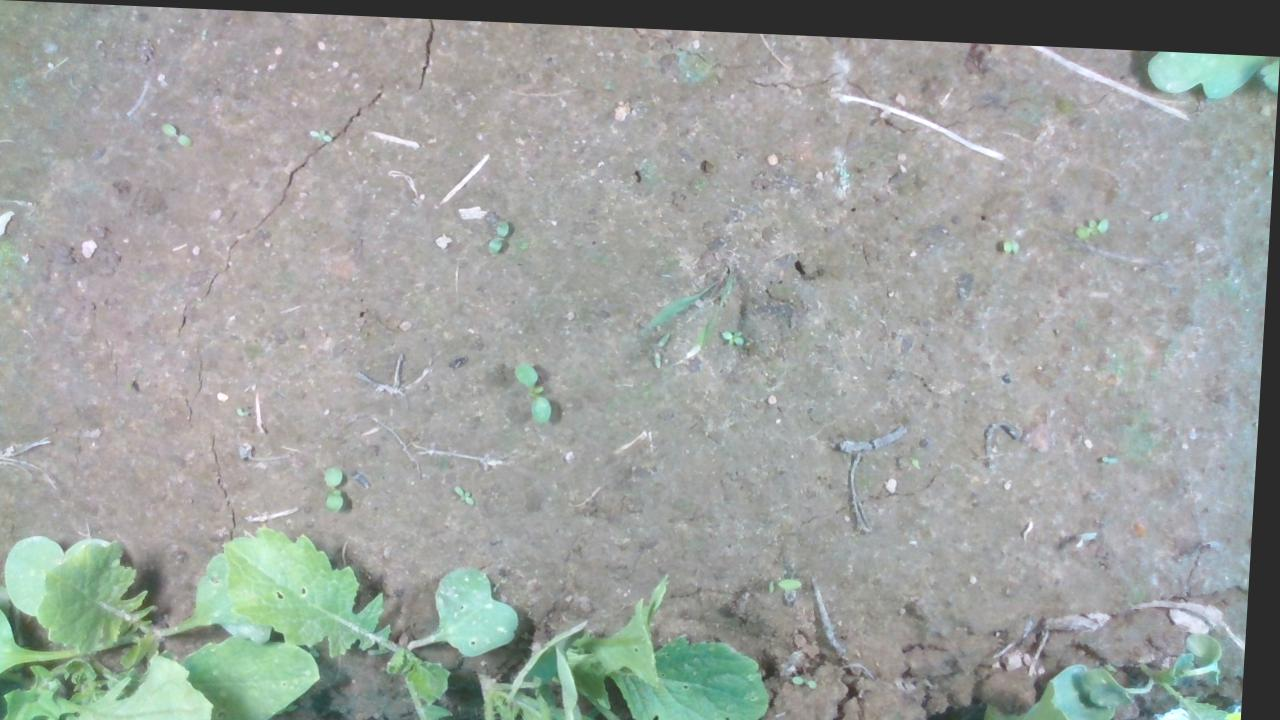weed: (513, 355, 559, 420), (323, 460, 353, 513), (487, 210, 514, 252), (159, 119, 196, 145), (1075, 203, 1110, 229), (653, 325, 674, 363), (456, 478, 482, 503), (721, 320, 748, 342), (307, 122, 336, 142), (1000, 224, 1021, 245), (1150, 197, 1173, 210)
